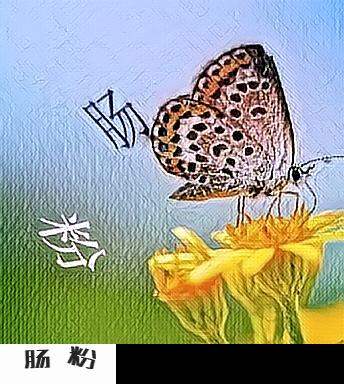character: (79, 86, 150, 154), (37, 209, 108, 276)
